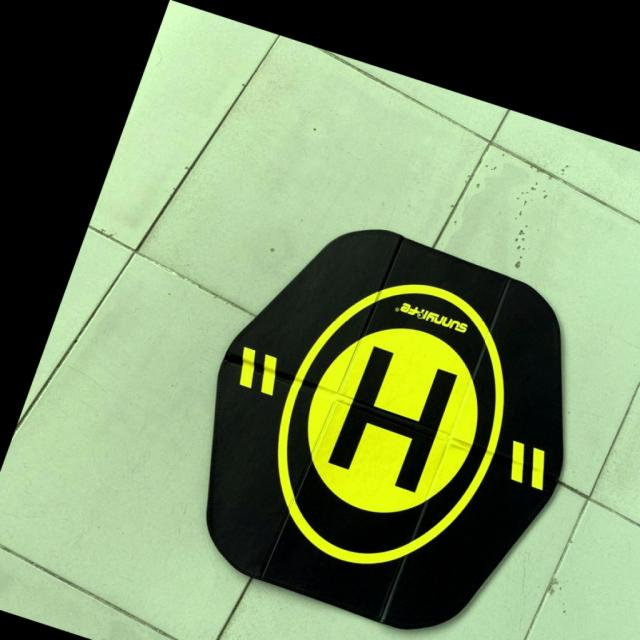helipad: (273, 280, 507, 568)
